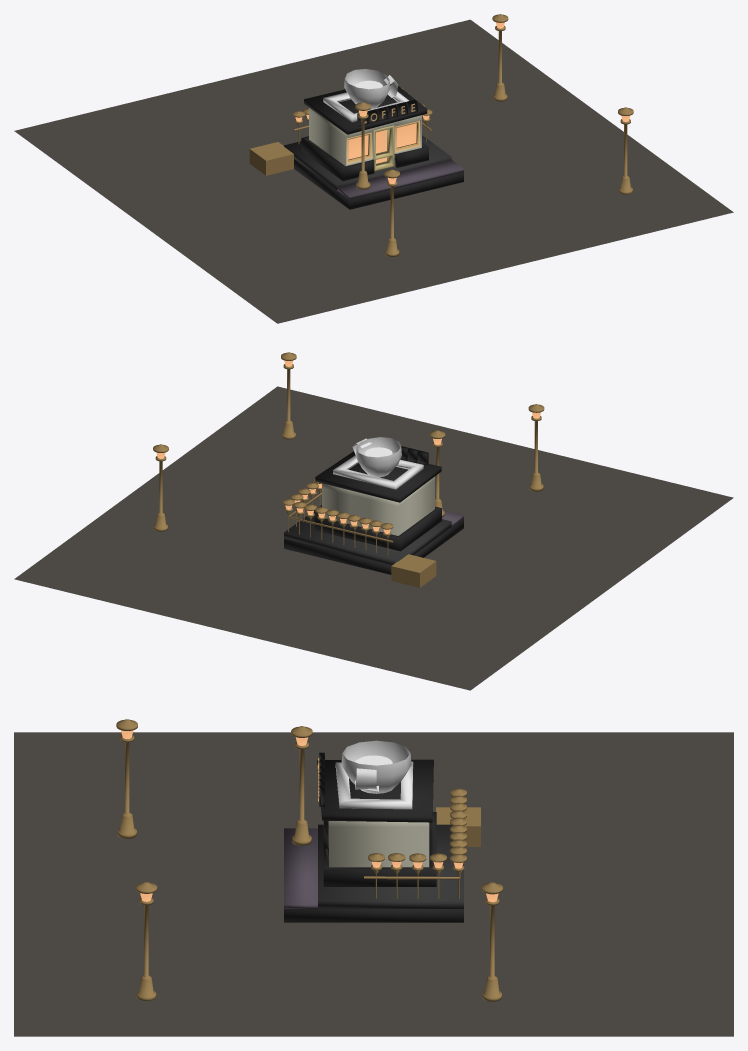
3 views of the same model, one above another, from view 1: azimuth 30°, elevation 25°; view 2: azimuth 150°, elevation 25°; view 3: azimuth 270°, elevation 25° (orthographic). The views are drawn at different scales.
Parts seen in each view (by area): view 1: Plane.017, Plane.004, Plane, Circle.002, Plane.005, Plane.018, Plane.001, Plane.002, Circle, Plane.008, Plane.006, Circle.019 (+3 smaller); view 2: Plane.017, Plane.004, Plane.002, Plane.005, Plane.018, Plane, Circle.002, Circle, Plane.006, Circle.003, Circle.018, Circle.019; view 3: Plane.017, Plane.002, Plane.004, Plane.005, Plane.018, Plane, Plane.001, Circle, Circle.002, Plane.006, Circle.003, Circle.019 (+1 smaller).
Part boxes in pixels (x1,y1,x2,y2): Plane.017: (14,19,733,323); Plane.004: (309,107,421,166); Plane: (294,159,463,209); Circle.002: (249,102,370,189); Plane.005: (304,84,427,134); Plane.018: (301,136,428,180); Plane.001: (337,159,463,199); Plane.002: (284,135,451,189); Circle: (344,69,390,109); Plane.008: (373,125,394,171); Plane.006: (323,85,408,122); Circle.019: (492,14,508,101); Plane.017: (14,386,733,690); Plane.004: (322,476,434,535); Plane.002: (284,505,451,564); Plane.005: (315,451,441,502); Plane.018: (314,506,441,551); Plane: (284,518,463,574); Circle.002: (391,430,445,587); Circle: (356,437,401,477); Plane.006: (333,455,423,489); Circle.003: (528,404,544,491); Circle.018: (281,352,296,439); Circle.019: (153,444,168,531); Plane.017: (14,732,733,1036); Plane.002: (318,824,463,908); Plane.004: (329,821,429,867); Plane.005: (317,759,433,822); Plane.018: (323,812,436,886); Plane: (284,909,463,922); Plane.001: (284,828,317,908); Circle: (341,740,411,793); Circle.002: (291,726,480,846); Plane.006: (335,761,413,809); Circle.003: (116,719,137,838); Circle.019: (481,882,502,1001).
Size of the model in its own units: 31.94 by 7.49 by 31.94.
